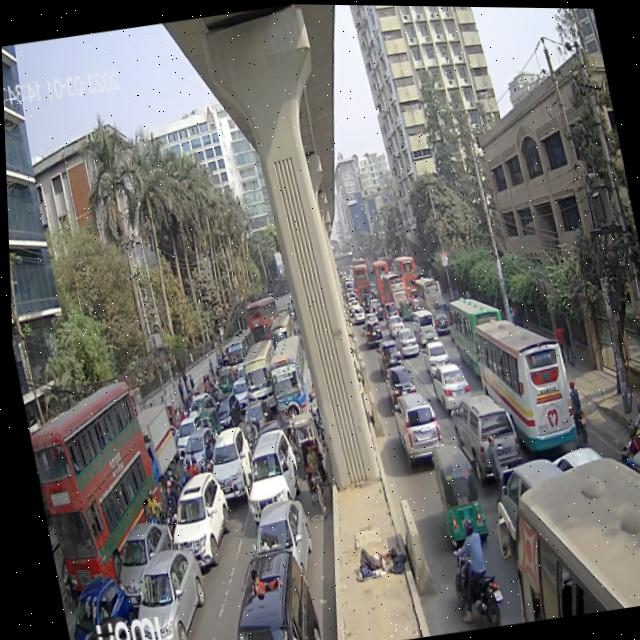cng: (422, 418, 484, 552)
rikshaw: (289, 429, 332, 520)
